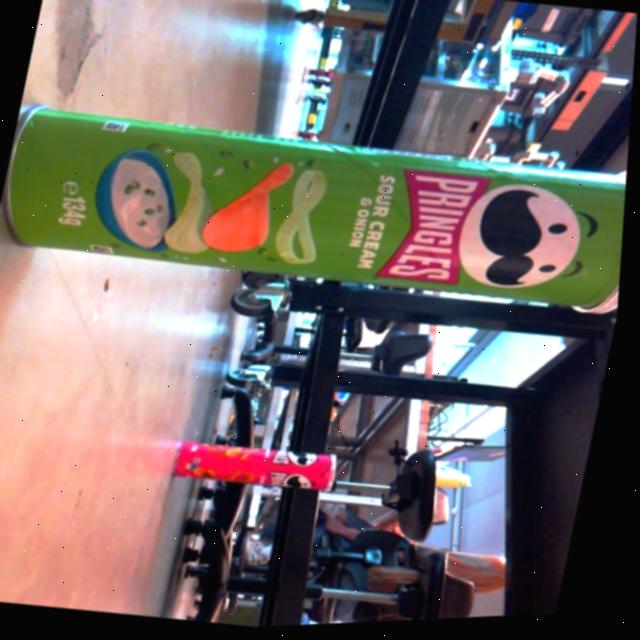greenpringles: (0, 60, 636, 377)
redpringles: (166, 417, 365, 516)
